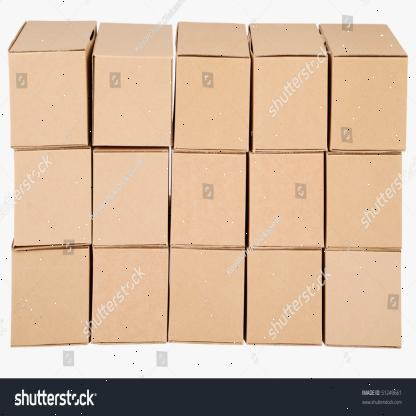box: (12, 150, 93, 247), (10, 49, 90, 147), (89, 246, 169, 344), (10, 246, 88, 346), (91, 150, 169, 248), (325, 249, 402, 347), (246, 249, 323, 346), (330, 54, 406, 152), (172, 55, 250, 150), (92, 54, 172, 146), (252, 55, 327, 153), (326, 152, 401, 250), (170, 151, 246, 247), (168, 246, 244, 342), (249, 152, 324, 247)
